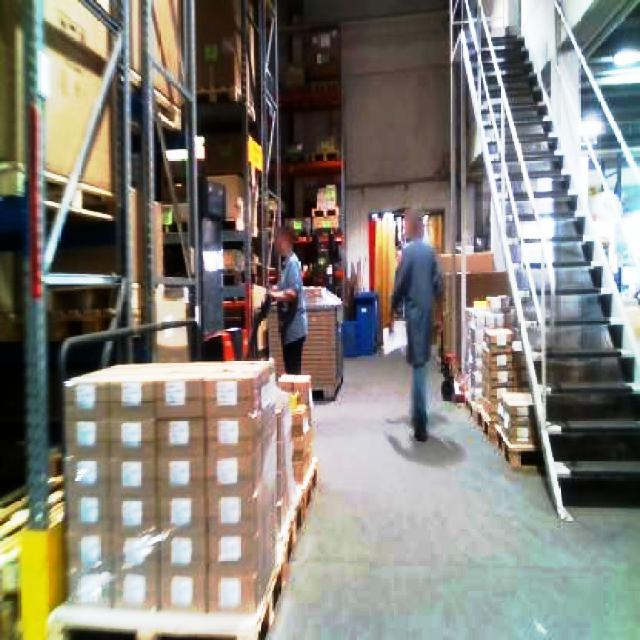ground: (252, 318, 638, 638)
pallet: (45, 355, 318, 638), (463, 291, 552, 474), (465, 294, 542, 469), (0, 458, 65, 638), (265, 285, 345, 400)
